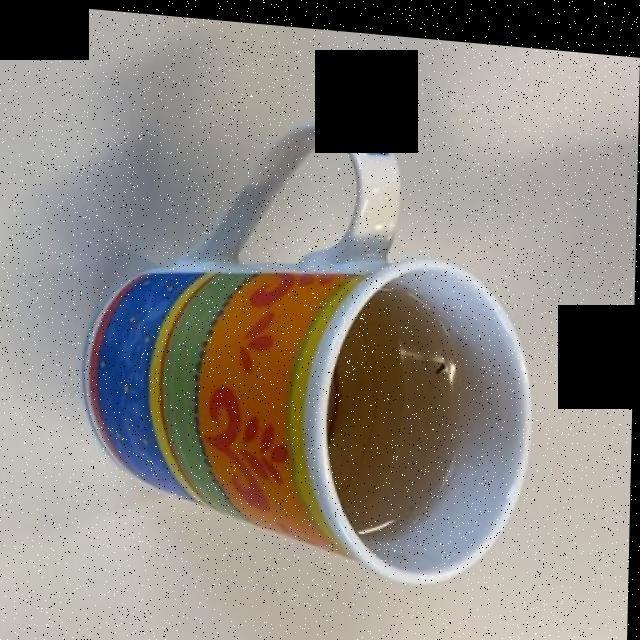water: (311, 289, 462, 525)
